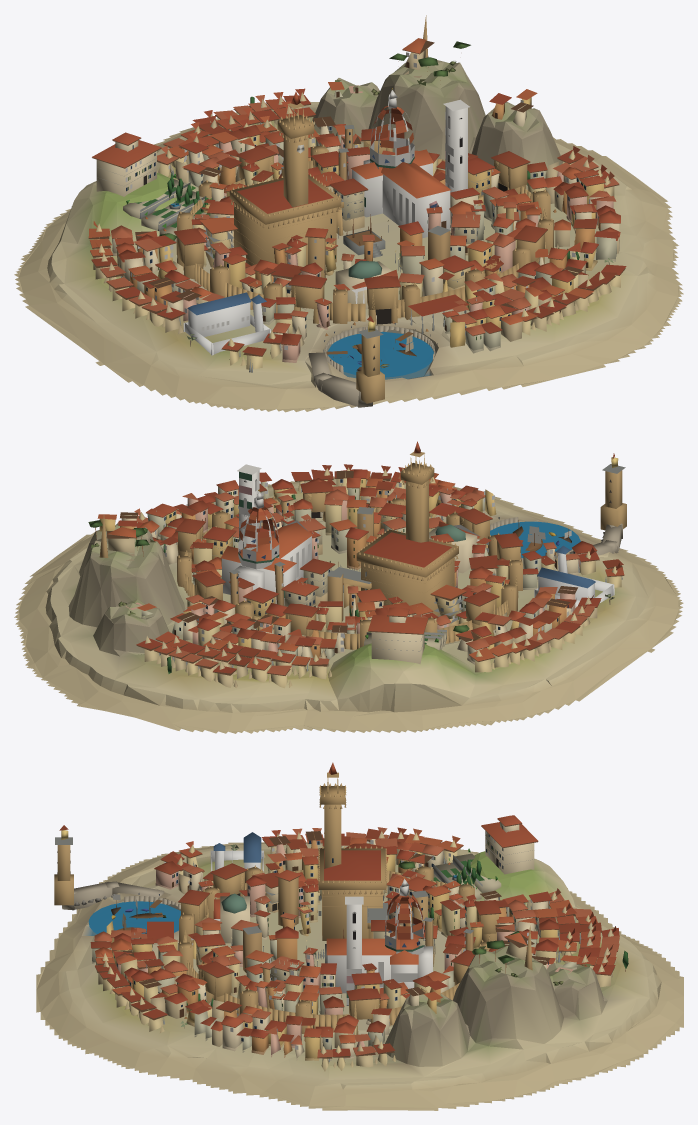
3 views of the same model, one above another, from view 1: azimuth 30°, elevation 25°; view 2: azimuth 150°, elevation 25°; view 3: azimuth 270°, elevation 25° (orthographic). The views are drawn at different scales.
Parts seen in each view (by area): view 1: BASE, VILLE_2, VILLE_3, VILLE_4; view 2: BASE, VILLE_2, VILLE_3, VILLE_4; view 3: BASE, VILLE_2, VILLE_3, VILLE_4.
Part boxes in pixels (x1,y1,x2,y2): BASE: (14, 57, 683, 412); VILLE_2: (90, 41, 618, 372); VILLE_3: (88, 15, 626, 370); VILLE_4: (335, 199, 397, 309); BASE: (14, 441, 683, 733); VILLE_2: (88, 464, 623, 688); VILLE_3: (97, 465, 624, 688); VILLE_4: (334, 521, 480, 609); BASE: (36, 762, 683, 1110); VILLE_2: (95, 827, 619, 1057); VILLE_3: (111, 827, 619, 1071); VILLE_4: (213, 893, 387, 943).
Size of the model in its own units: 71.5 by 22.55 by 75.
